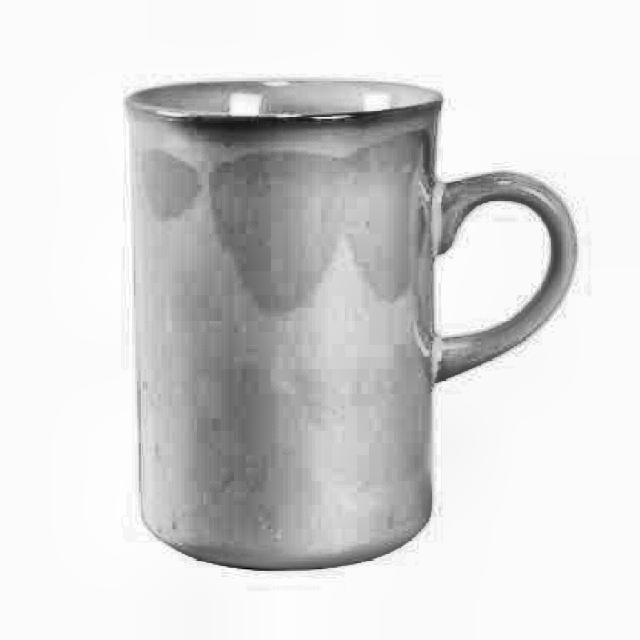Mug: (122, 74, 578, 572)
